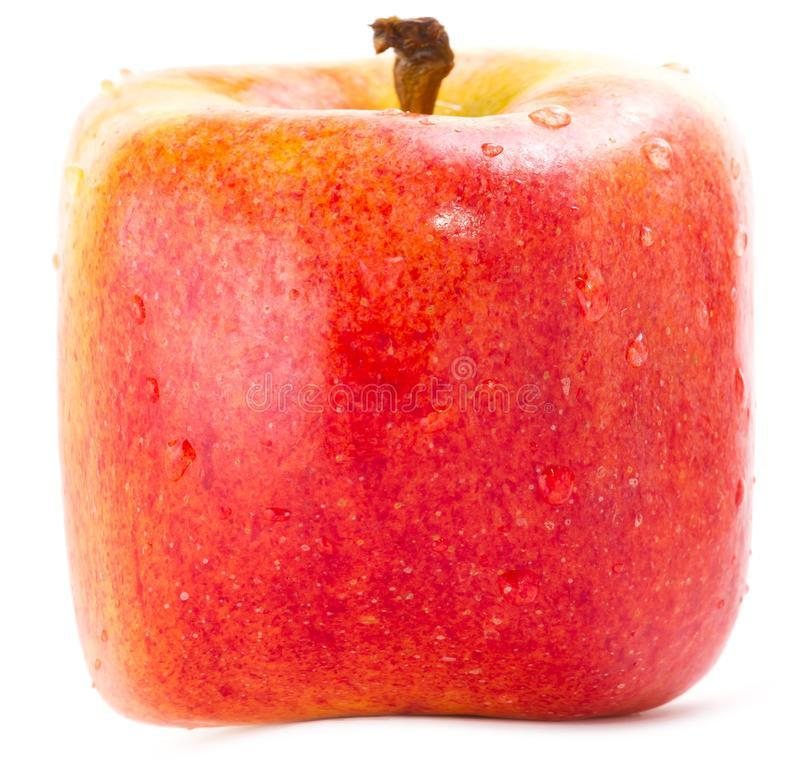apple: (54, 44, 753, 721)
